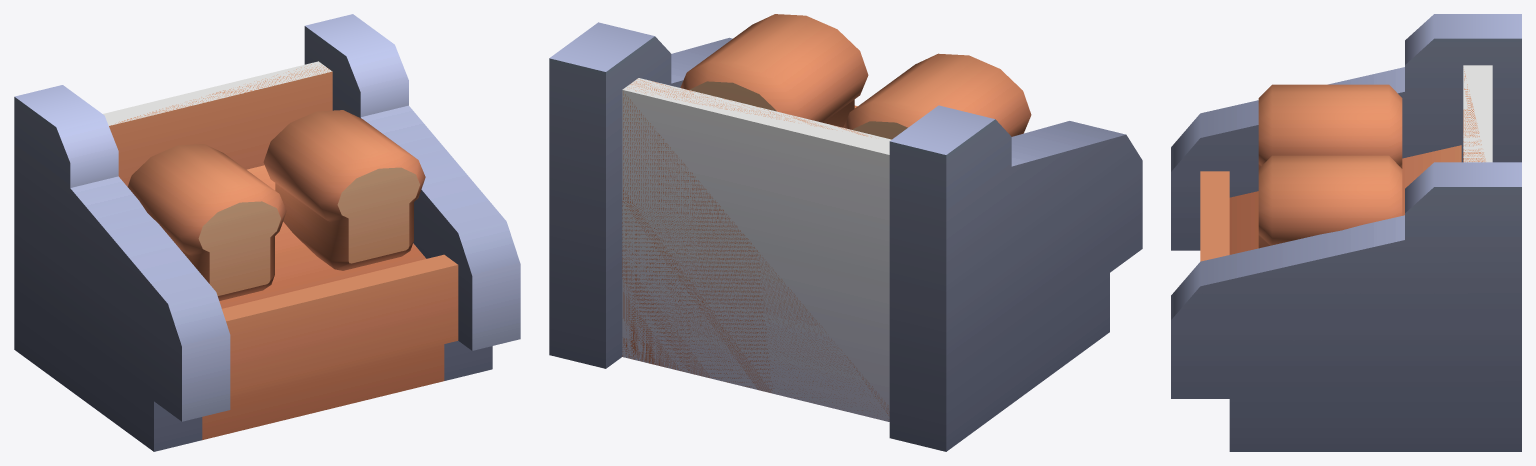
Rendered from k-mini-market-display-bread.glb.
3 views of the same model, side by side, from view 1: azimuth 30°, elevation 25°; view 2: azimuth 150°, elevation 25°; view 3: azimuth 270°, elevation 25° (orthographic). The views are drawn at different scales.
Parts seen in each view (by area): view 1: display-bread, bread (×2); view 2: display-bread, bread (×2); view 3: display-bread, bread (×2).
Boxes of the visible parts, x1=… form: display-bread: x1=14, y1=14, x2=520, y2=451; bread (×2): x1=127, y1=110, x2=425, y2=300; display-bread: x1=549, y1=22, x2=1142, y2=451; bread (×2): x1=680, y1=14, x2=1031, y2=139; display-bread: x1=1171, y1=14, x2=1521, y2=451; bread (×2): x1=1258, y1=84, x2=1402, y2=248.
Size of the model in its own units: 0.7 by 0.5 by 0.6.
Materials: 1 (1 with a texture image).
